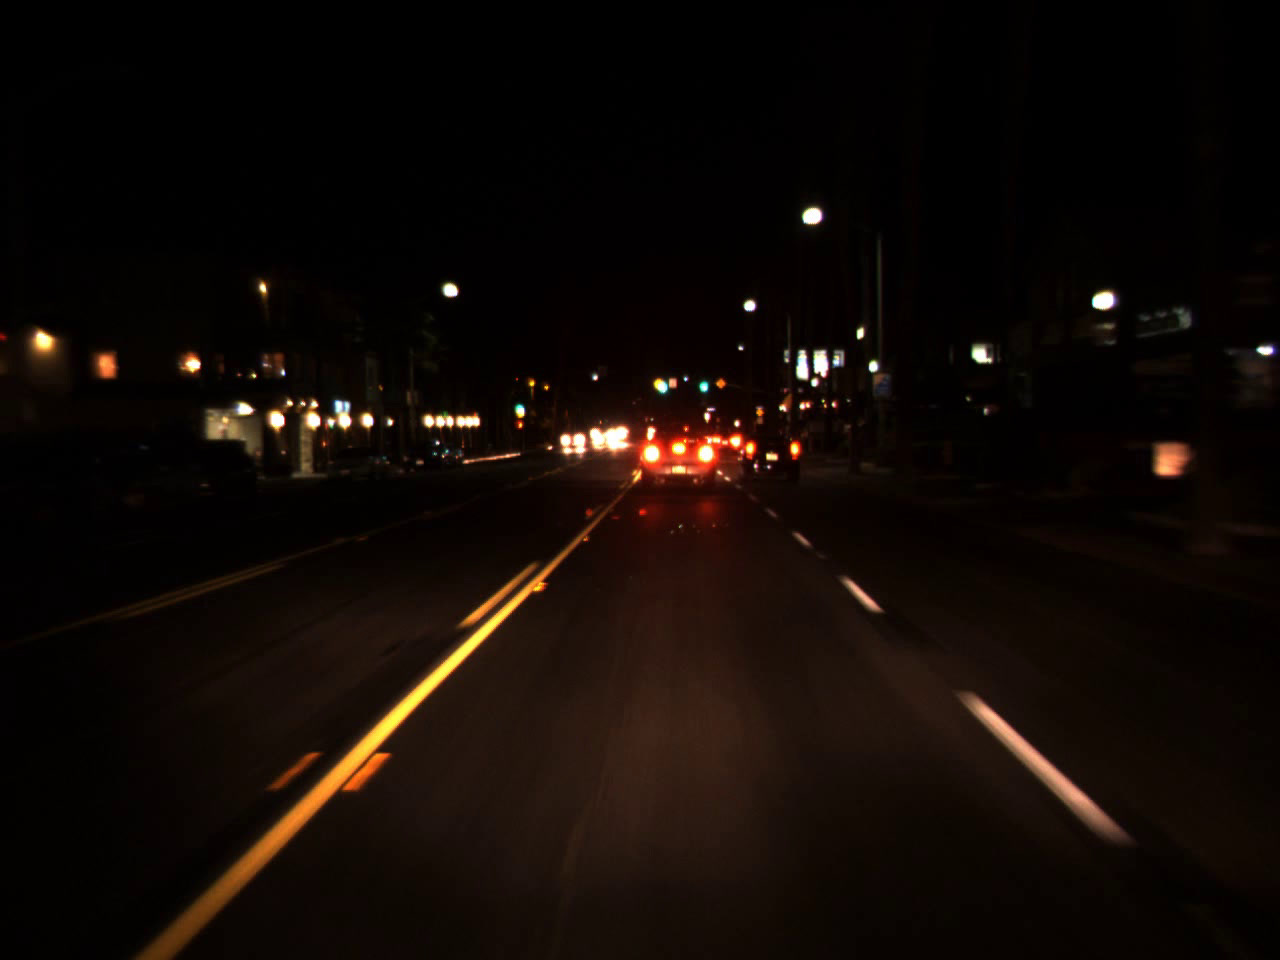go: (655, 369, 669, 396), (696, 371, 710, 395), (512, 397, 524, 412)
